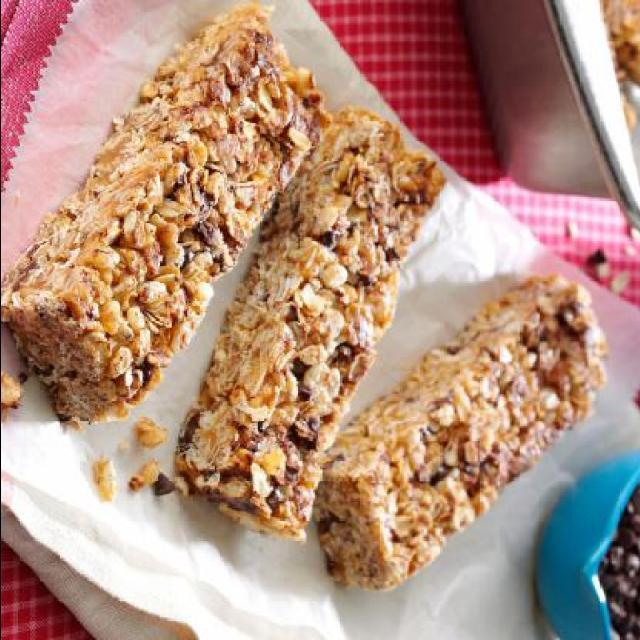Cereal bar packaged: (5, 22, 321, 420), (170, 115, 446, 553), (316, 293, 604, 595)
